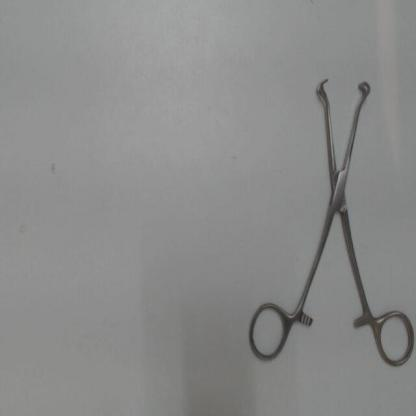Babcock Tissue Forceps: (242, 73, 416, 378)
